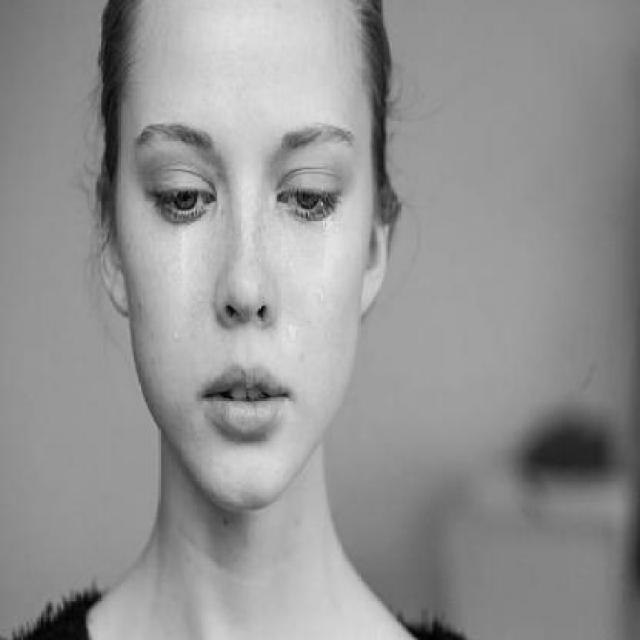sad: (142, 120, 356, 435)
